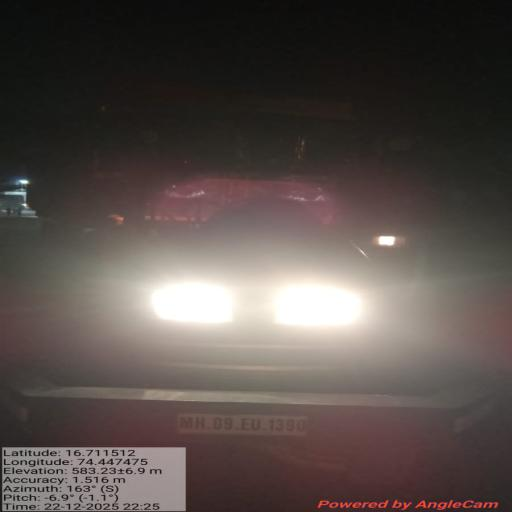number_plate: (167, 401, 322, 444)
